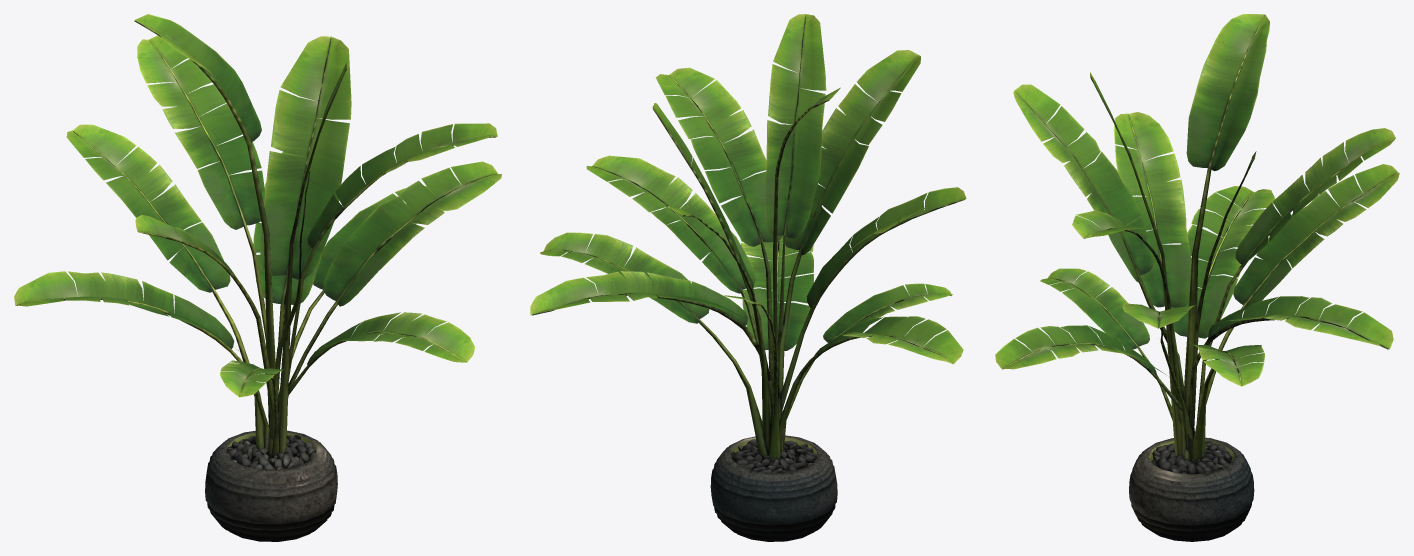
Rendered from BananaTree.glb.
3 views of the same model, side by side, from view 1: azimuth 30°, elevation 25°; view 2: azimuth 150°, elevation 25°; view 3: azimuth 270°, elevation 25° (orthographic). The views are drawn at different scales.
Visible parts, largest first — view 1: BananaTree; view 2: BananaTree; view 3: BananaTree.
Part boxes in pixels (x1,y1,x2,y2): BananaTree: (14,14,501,541); BananaTree: (530,14,966,541); BananaTree: (995,14,1399,541).
Bounding box in the file's own units: 0.9005 × 0.9745 × 0.7655.
Materials: 1 (1 with a texture image).
